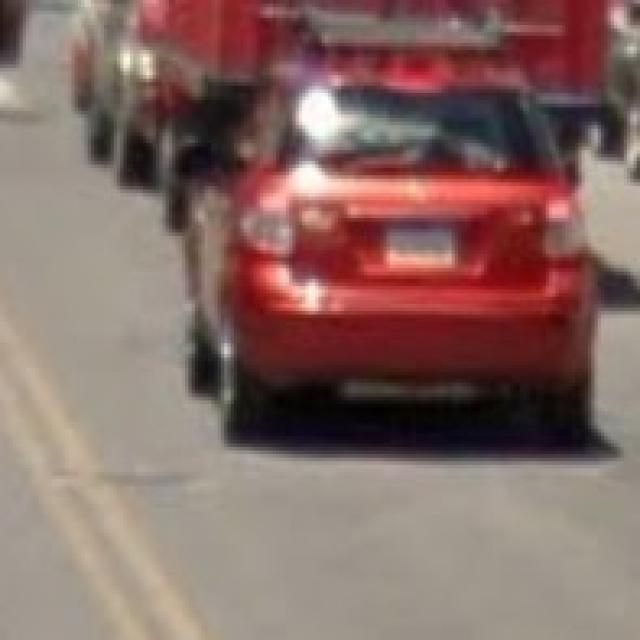Car: (180, 70, 594, 415)
